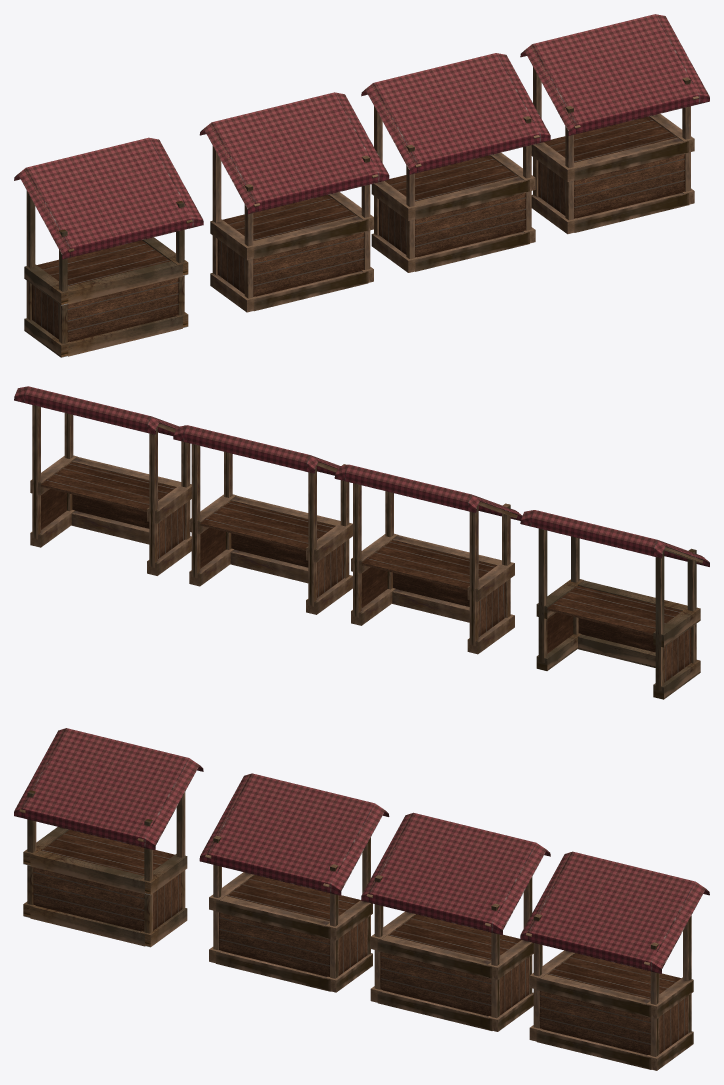
File: stands.fbx
The picture shows the model from 3 angles, top to bottom: view 1: azimuth 30°, elevation 25°; view 2: azimuth 150°, elevation 25°; view 3: azimuth 330°, elevation 25°; orthographic projection.
Visible parts, largest first — view 1: Plane, Plane.001, Plane.002, Plane.003; view 2: Plane, Plane.001, Plane.002, Plane.003; view 3: Plane, Plane.003, Plane.002, Plane.001.
Boxes of the visible parts, x1=… form: Plane: x1=14, y1=137, x2=203, y2=357; Plane.001: x1=199, y1=92, x2=389, y2=312; Plane.002: x1=361, y1=53, x2=550, y2=272; Plane.003: x1=520, y1=14, x2=709, y2=234; Plane: x1=520, y1=510, x2=709, y2=699; Plane.001: x1=334, y1=464, x2=522, y2=654; Plane.002: x1=173, y1=425, x2=352, y2=614; Plane.003: x1=14, y1=386, x2=191, y2=575; Plane: x1=14, y1=728, x2=203, y2=947; Plane.003: x1=520, y1=851, x2=709, y2=1070; Plane.002: x1=361, y1=812, x2=550, y2=1031; Plane.001: x1=199, y1=773, x2=389, y2=992.
Bounding box in the file's own units: 1078 × 256 × 142.
